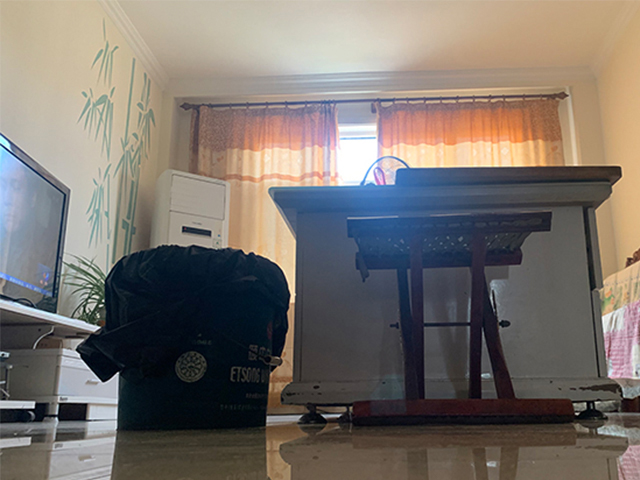cabinet: (1, 297, 117, 422)
curtain: (189, 103, 340, 413)
stool: (345, 209, 576, 425)
table: (268, 179, 625, 424)
